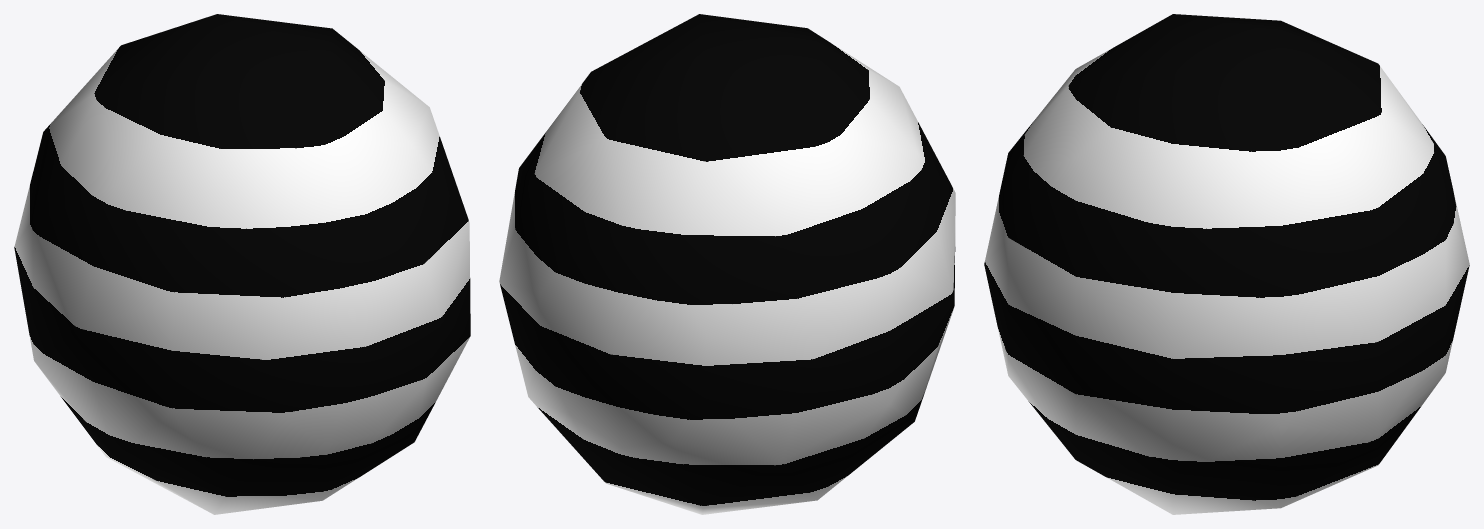
The model's file is brain.dae.
3 renders of one model, left to right at view 1: azimuth 30°, elevation 25°; view 2: azimuth 150°, elevation 25°; view 3: azimuth 270°, elevation 25°, orthographic.
Visible parts, largest first — view 1: n0b0; view 2: n0b0; view 3: n0b0.
Boxes of the visible parts, x1,y1,x2,y2 form: n0b0: [14, 14, 470, 514]; n0b0: [499, 14, 955, 514]; n0b0: [984, 14, 1469, 514].
Size of the model in its own units: 87 by 97.49 by 92.6.
1 material, 1 textured.
